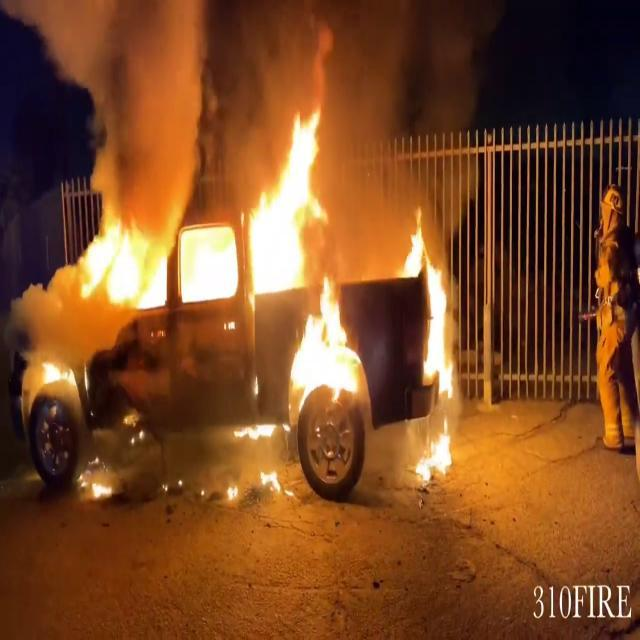Fire: (74, 103, 360, 300), (400, 206, 458, 398), (284, 274, 364, 410), (28, 345, 85, 408), (409, 422, 456, 484), (76, 464, 116, 502)
Smoke: (43, 0, 279, 180)
